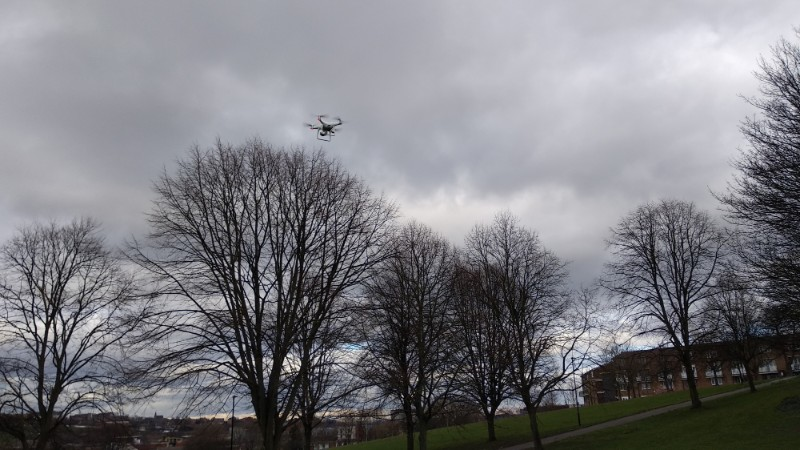drone: (302, 114, 345, 141)
